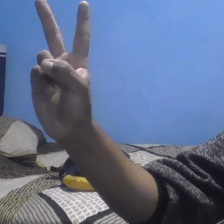V: (23, 1, 96, 142)
